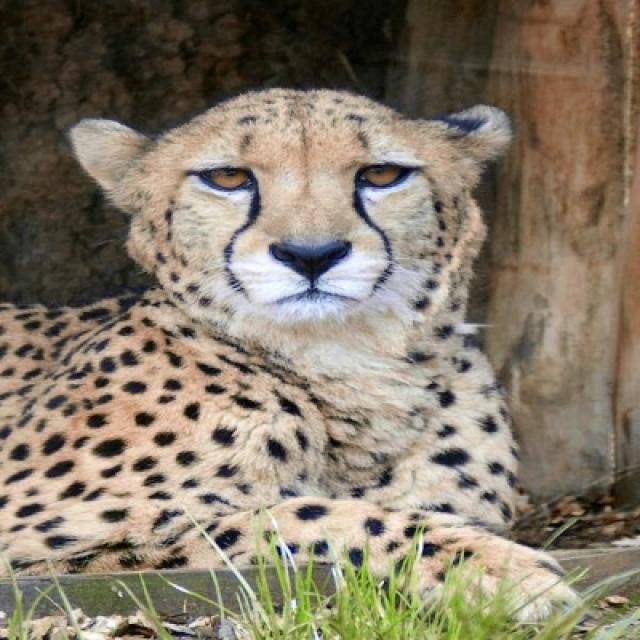Cheetah: (0, 88, 580, 625)
